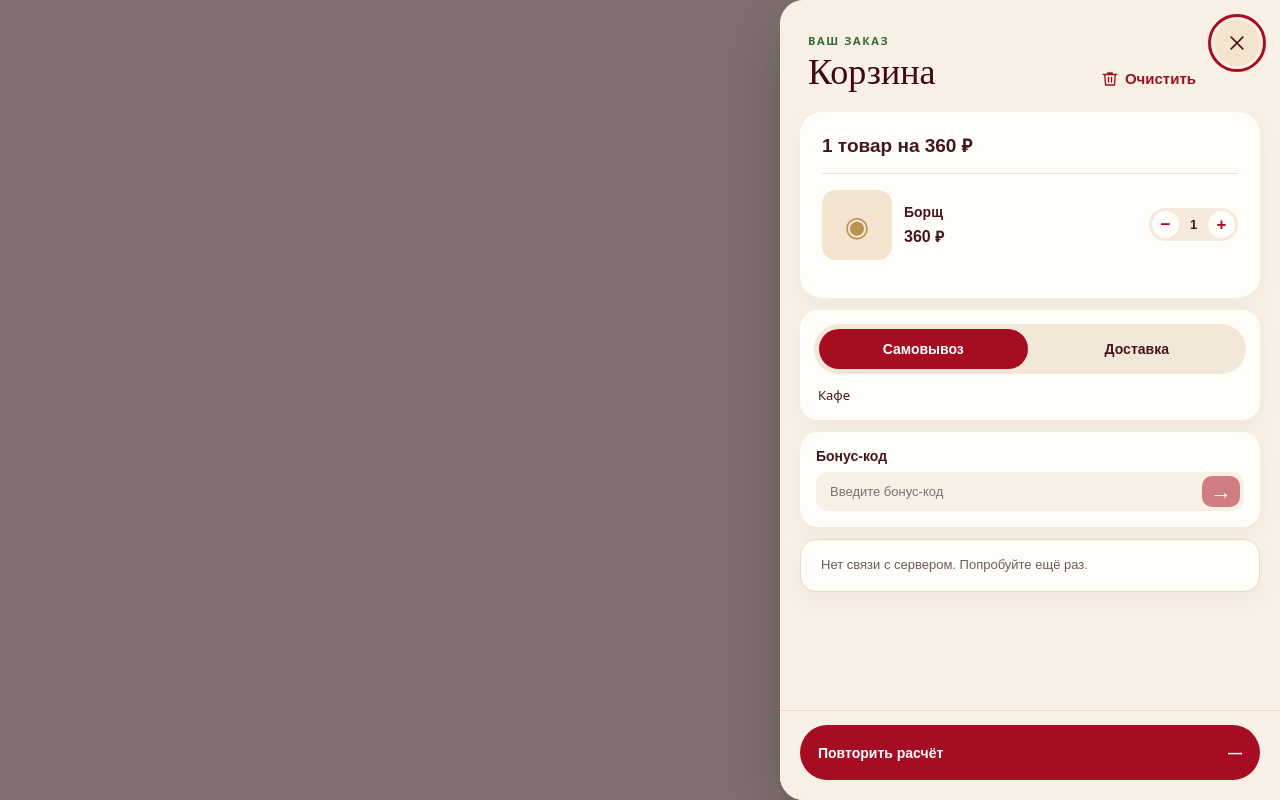
Test: после ошибки расчёта позволяет повторить запрос
Click the button "Повторить расчёт —".
click(881, 752)  # box [800, 725, 1260, 780]
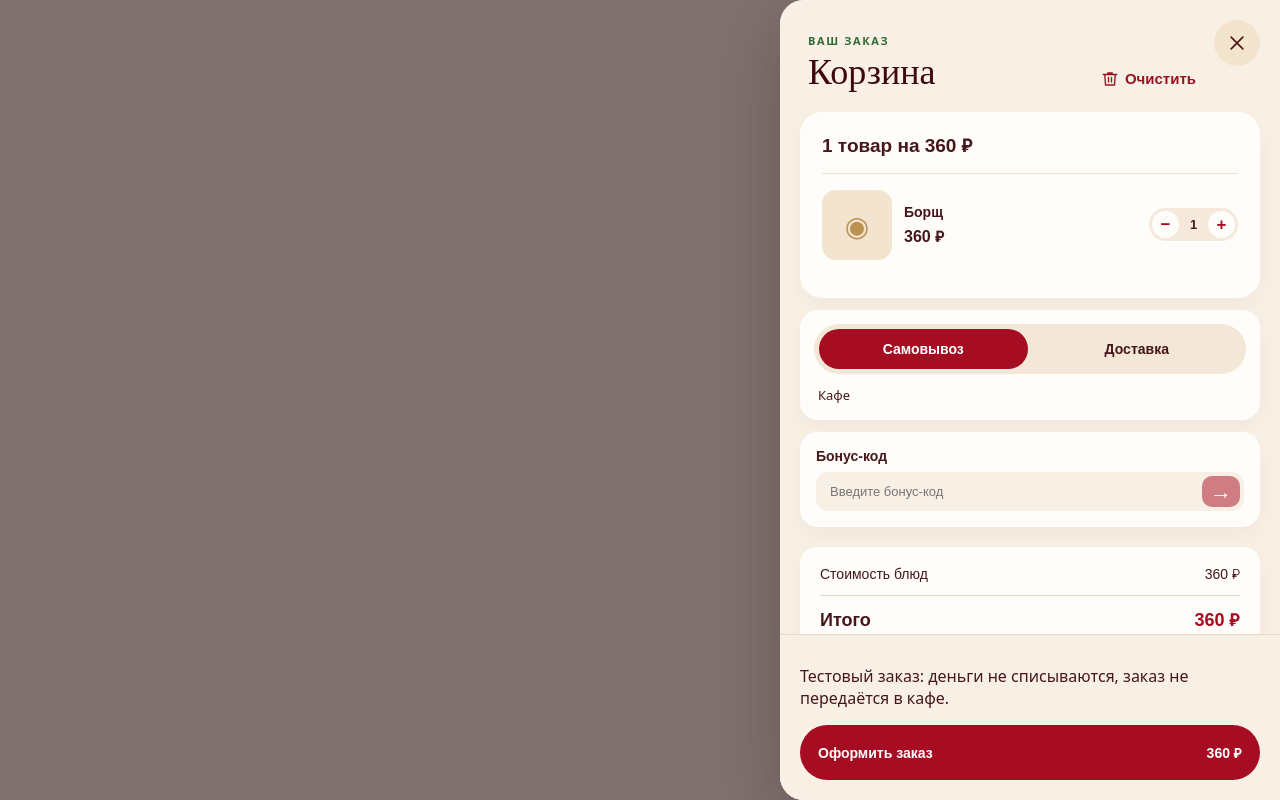
Now the button "Оформить заказ 360 ₽" is shown, box [800, 725, 1260, 780]
